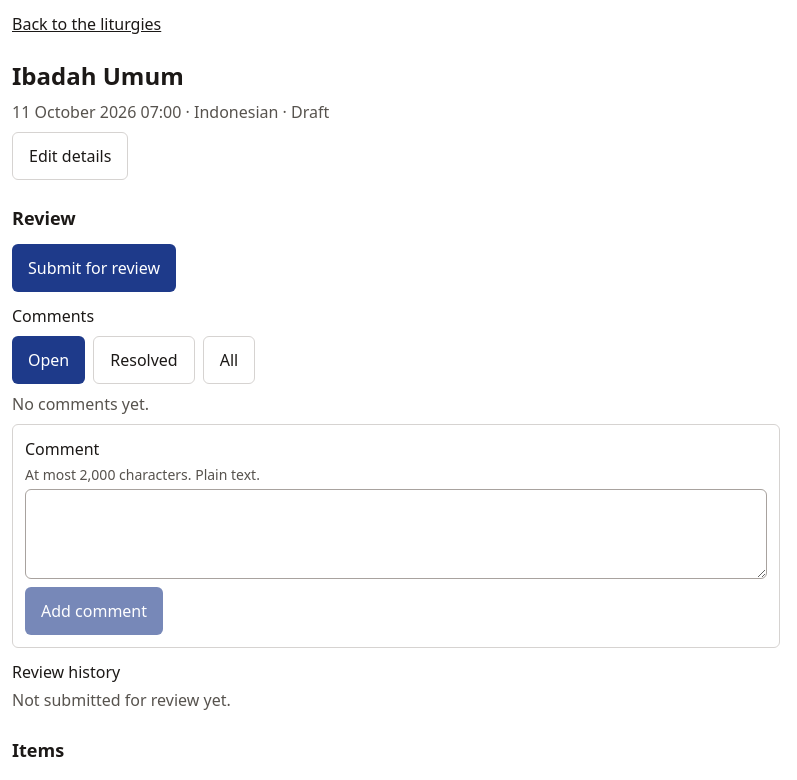
WT-R-003 submit › lists the unfinished items with links when the server refuses
What coordinates should you click on to do the following:
click the button "Submit for review"
I would click on:
 (94, 268)
Its box is [12, 244, 176, 292].
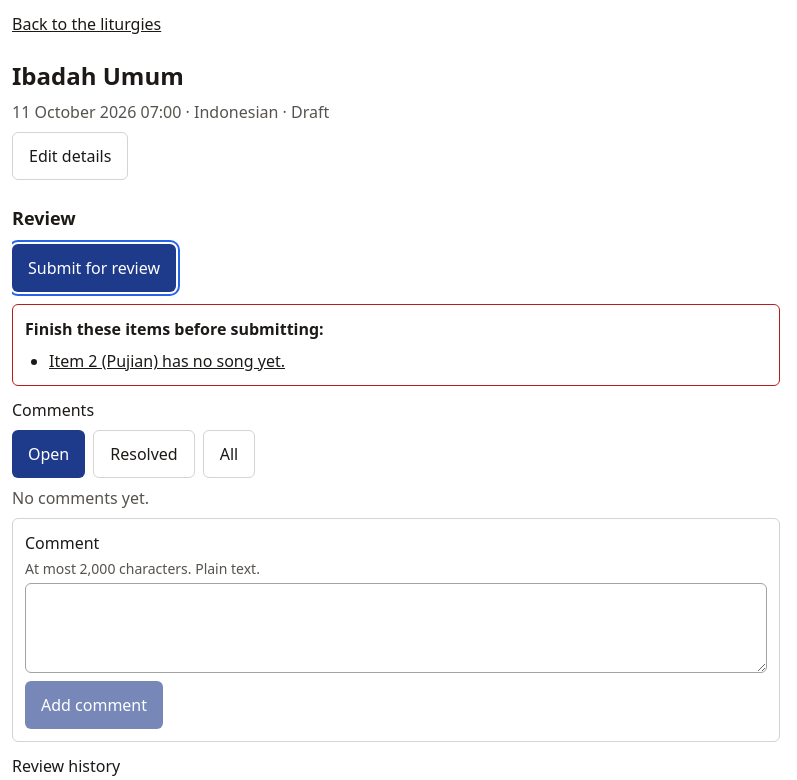
Now the text "Finish these items before submitting:" is shown, box [25, 318, 324, 340]
